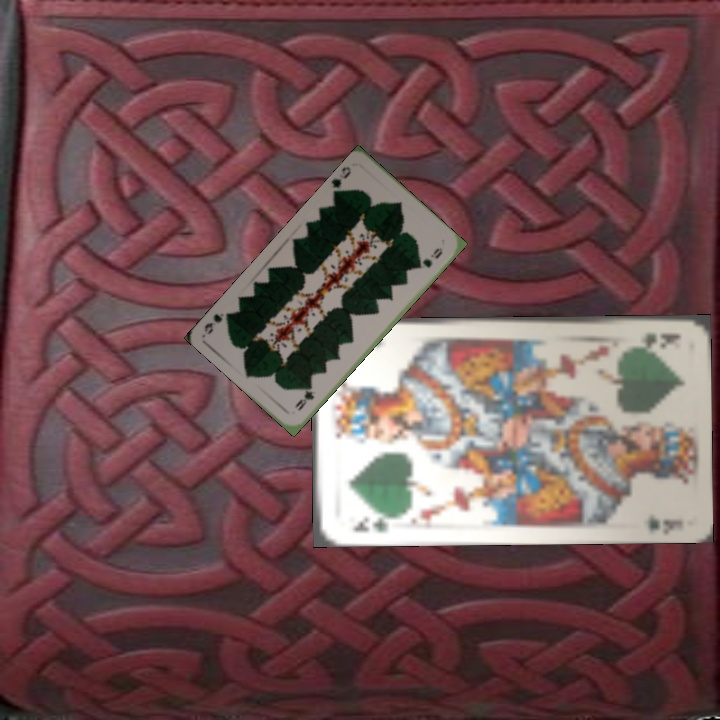G9: (328, 162, 354, 197), (290, 383, 317, 414)
GK: (349, 511, 396, 535), (638, 328, 683, 349)
